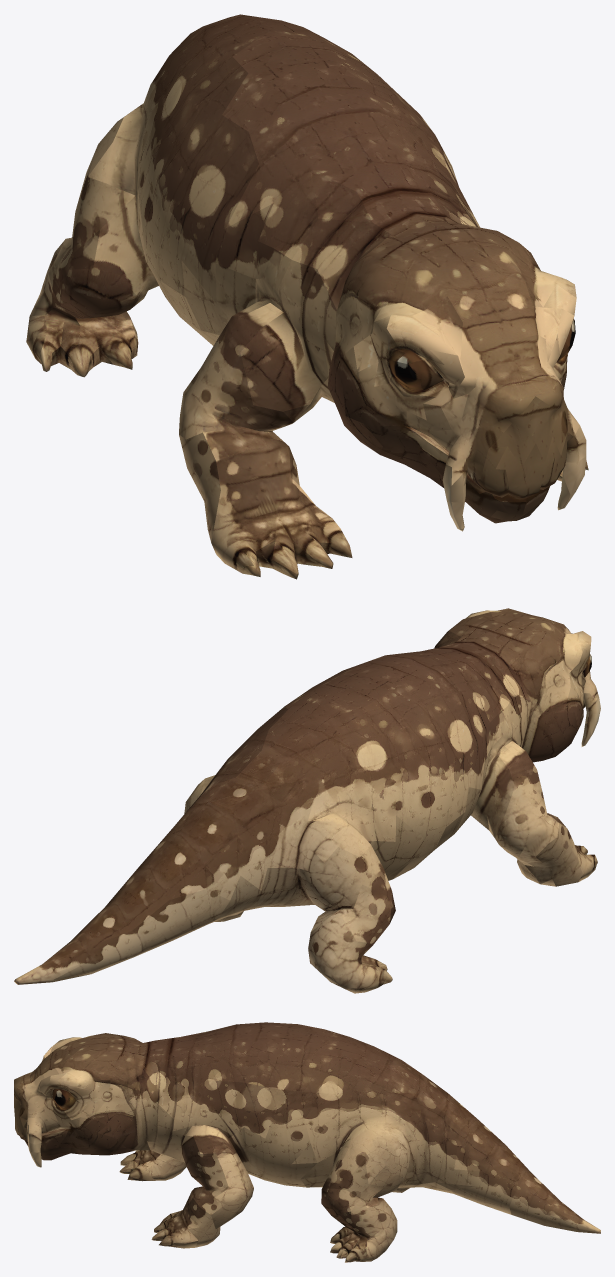
The model's file is CRT-019.glb.
The picture shows the model from 3 angles, top to bottom: view 1: azimuth 30°, elevation 25°; view 2: azimuth 150°, elevation 25°; view 3: azimuth 270°, elevation 25°; orthographic projection. The views are drawn at different scales.
Visible parts, largest first — view 1: mesh_node; view 2: mesh_node; view 3: mesh_node.
Part boxes in pixels (x1=…): mesh_node: x1=26, y1=14, x2=588, y2=579; mesh_node: x1=14, y1=608, x2=600, y2=993; mesh_node: x1=14, y1=1022, x2=600, y2=1262.
Bounding box in the file's own units: 0.4336 × 0.3359 × 1.
1 material, 1 textured.
